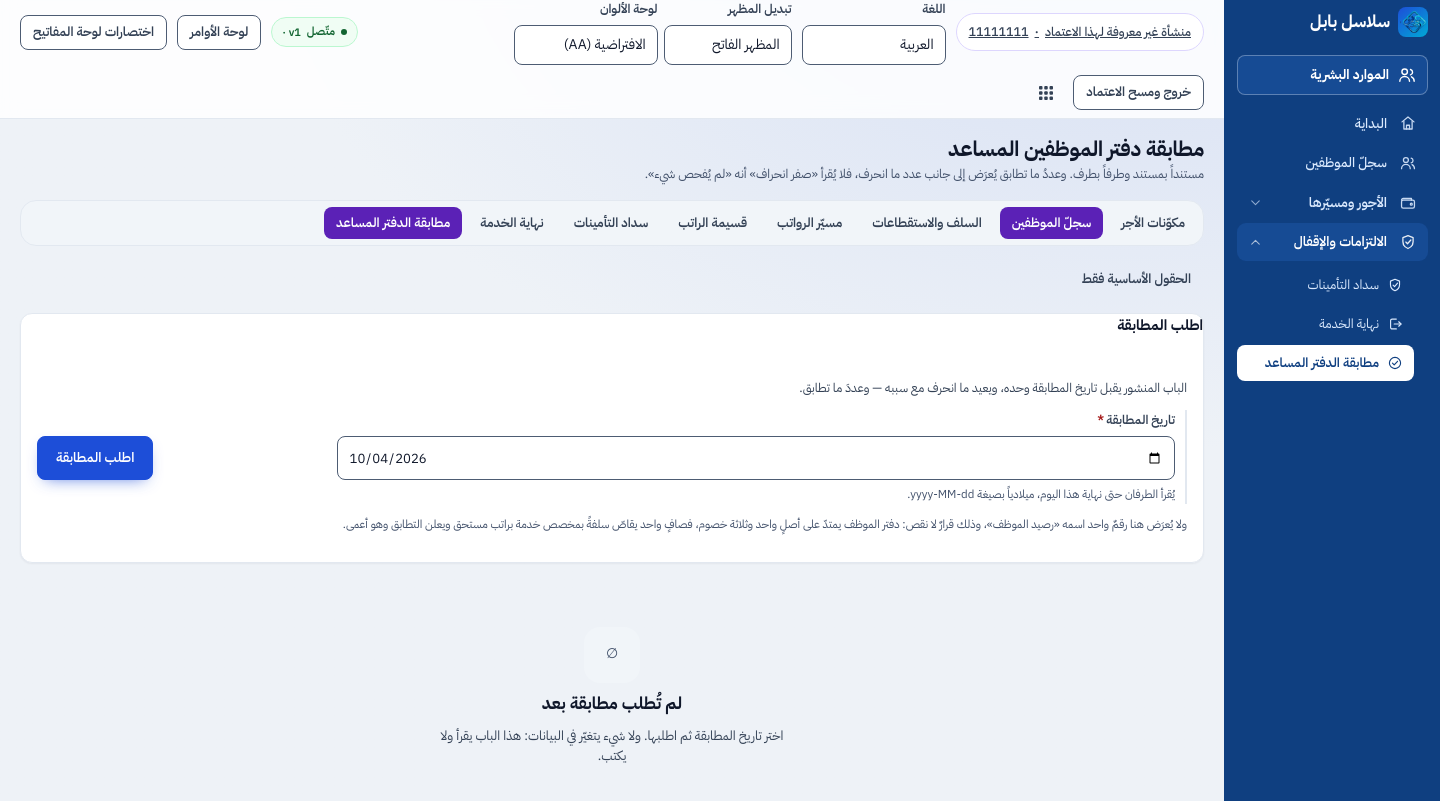
المطابقة › سطر الانحراف يحمل طرفيه ورمزه المعتم — ولا اسمَ ولا رقمَ حساب
This screenshot has width=1440, height=801.
Step 1. Click the button with test id "hr-recon-run" → click(95, 458), box [37,436,153,480]
(page scrolled)
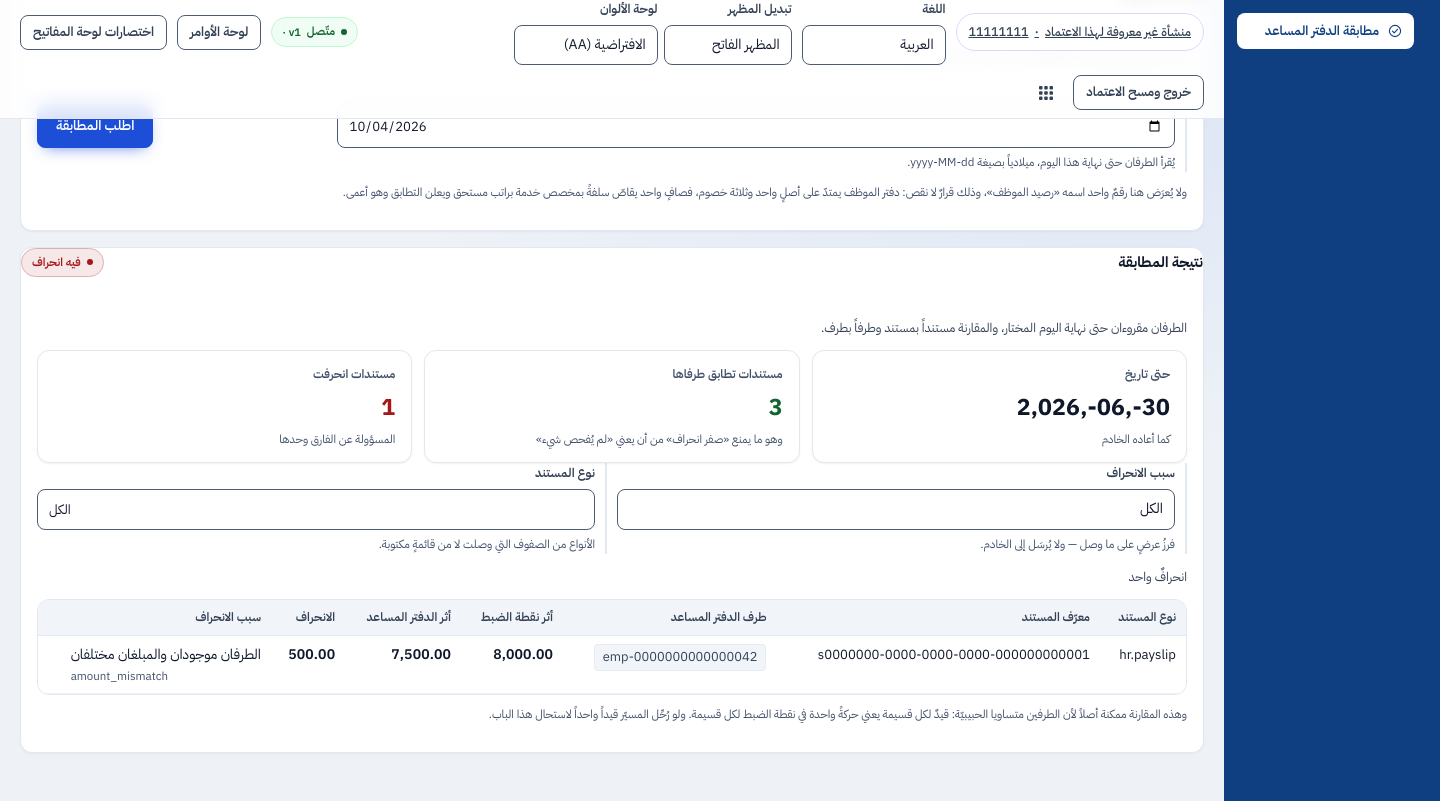
Expected: the element with test id "hr-recon-reason-word" does not show "amount_mismatch"
Now the element with test id "hr-recon-table" shows "emp-0000000000000042", box [603,647,758,666]
Now the text with test id "hr-recon-reason-code" reads "amount_mismatch", box [71,668,168,685]
